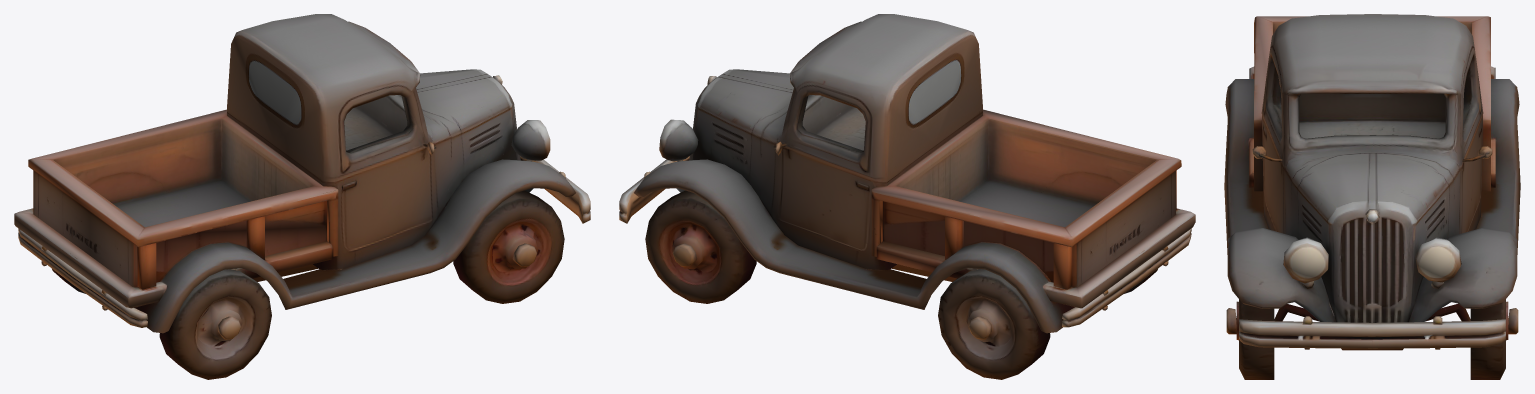
File: caminhao.glb
3 views of the same model, side by side, from view 1: azimuth 30°, elevation 25°; view 2: azimuth 150°, elevation 25°; view 3: azimuth 270°, elevation 25° (orthographic). The views are drawn at different scales.
Parts seen in each view (by area): view 1: tripo_node_628d6507-31e0-46e8-8e57-471a8d4cc987; view 2: tripo_node_628d6507-31e0-46e8-8e57-471a8d4cc987; view 3: tripo_node_628d6507-31e0-46e8-8e57-471a8d4cc987.
Boxes of the visible parts, x1=… form: tripo_node_628d6507-31e0-46e8-8e57-471a8d4cc987: x1=14, y1=14, x2=590, y2=379; tripo_node_628d6507-31e0-46e8-8e57-471a8d4cc987: x1=619, y1=14, x2=1195, y2=379; tripo_node_628d6507-31e0-46e8-8e57-471a8d4cc987: x1=1224, y1=14, x2=1520, y2=379.
Bounding box in the file's own units: 0.998 × 0.5098 × 0.5098.
Materials: 1 (1 with a texture image).
